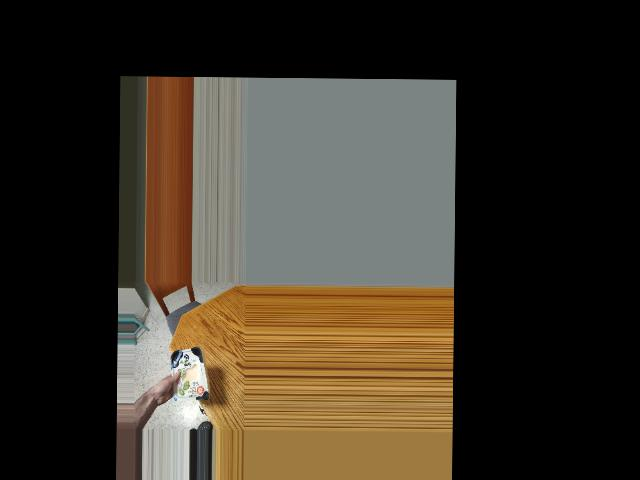cheese: (172, 347, 203, 397)
